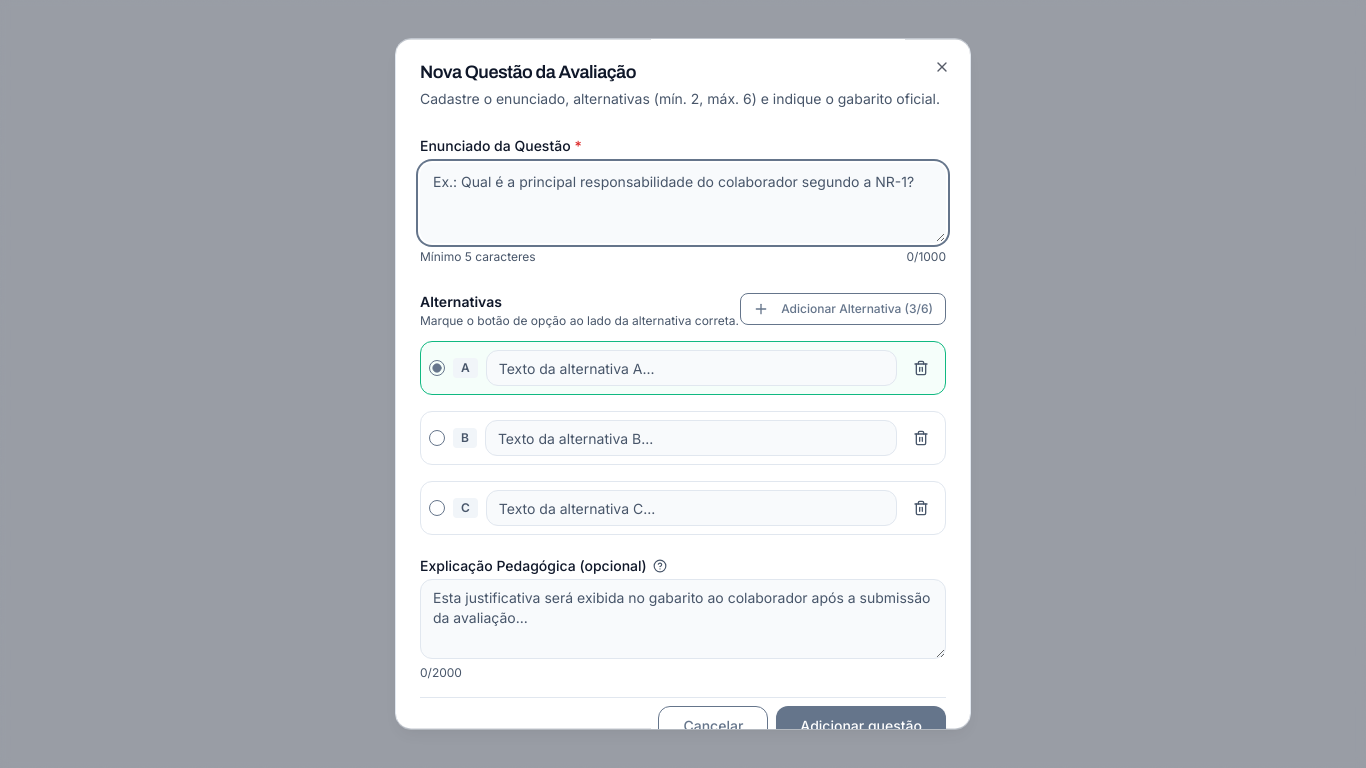
ETAPA 9.6 — CRUD de Módulos, Aulas e Quiz (Passo 8.1 Validações) › g) valida enunciado de pergunta (< 5 caracteres recusa)
Replace the text in the text box labelled "Enunciado da Questão *" with "Qual" at coordinates (683, 203), box x1=420 y1=163 x2=946 y2=243
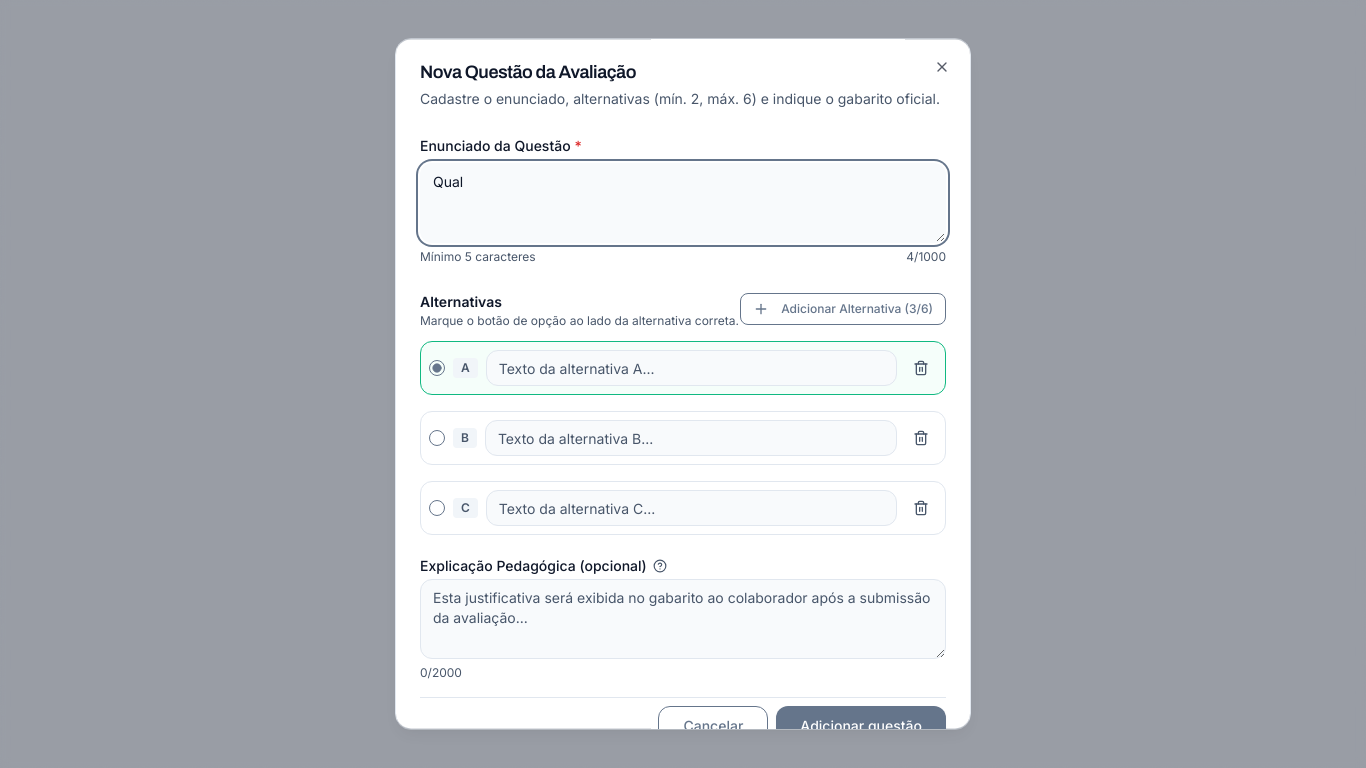
Click the button "Adicionar questão".
click(861, 726)  # box x1=776 y1=706 x2=946 y2=746
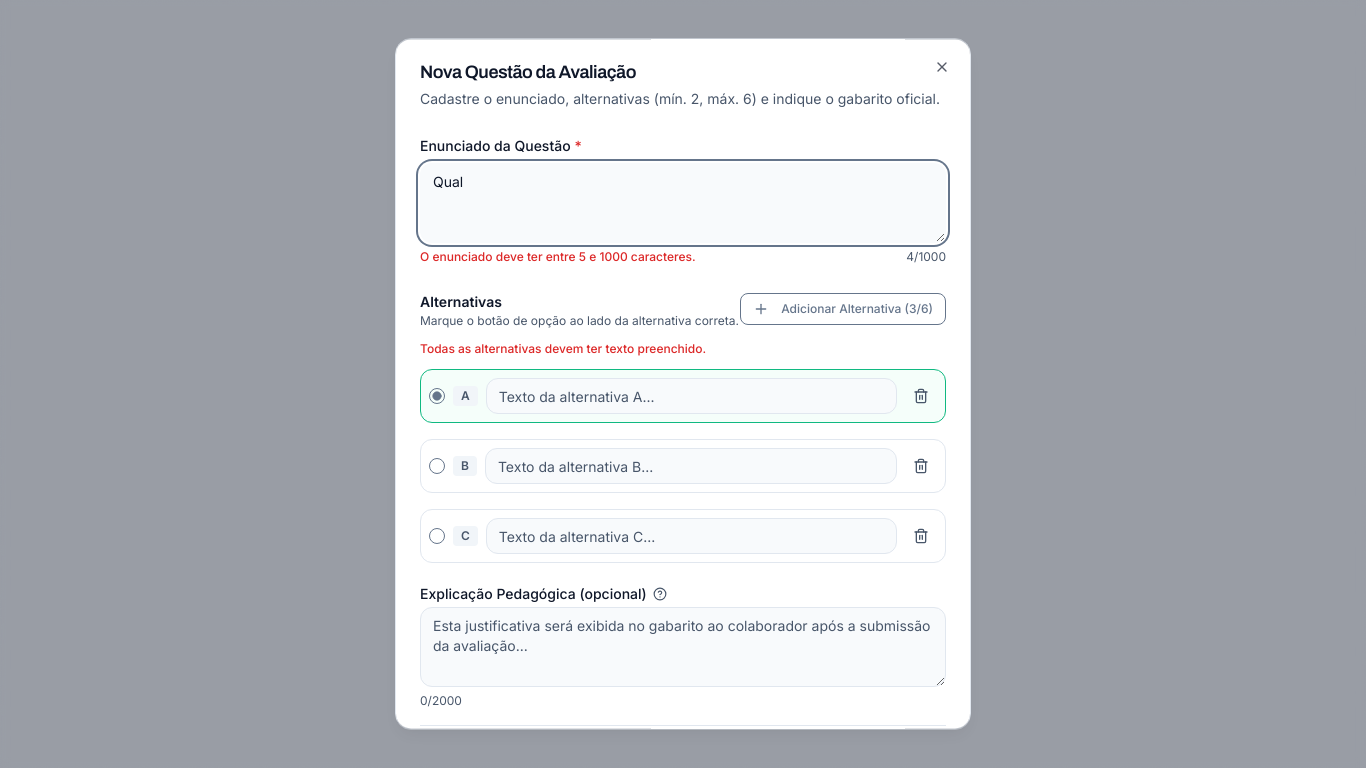
Expected: the text "O enunciado deve ter entre 5 e 1000 caracteres." is shown, x1=420 y1=249 x2=696 y2=265
